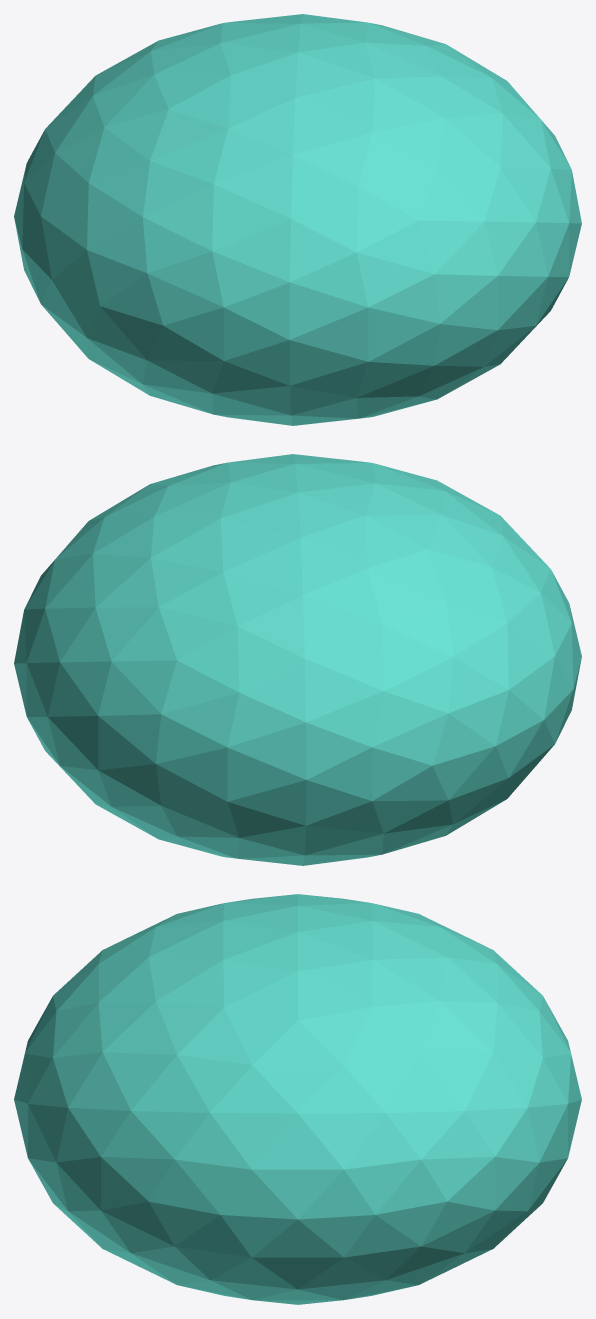
3 views of the same model, one above another, from view 1: azimuth 30°, elevation 25°; view 2: azimuth 150°, elevation 25°; view 3: azimuth 270°, elevation 25° (orthographic).
Parts seen in each view (by area): view 1: geometry_0; view 2: geometry_0; view 3: geometry_0.
Boxes of the visible parts, x1,y1,x2,y2 form: geometry_0: [14, 14, 581, 425]; geometry_0: [14, 454, 581, 865]; geometry_0: [14, 894, 581, 1304].
Size of the model in its own units: 0.16 by 0.104 by 0.16.
